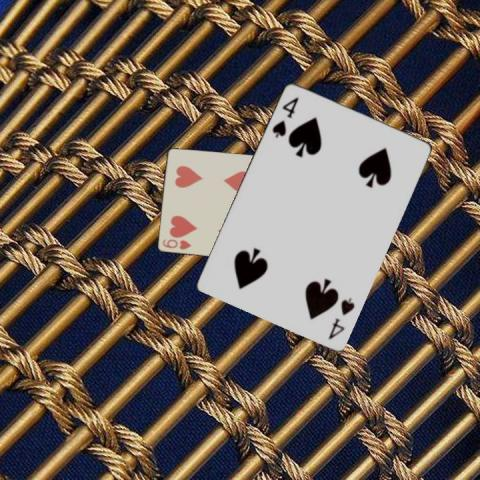4s: (325, 294, 356, 341), (269, 94, 300, 140)
6h: (160, 236, 193, 251)
